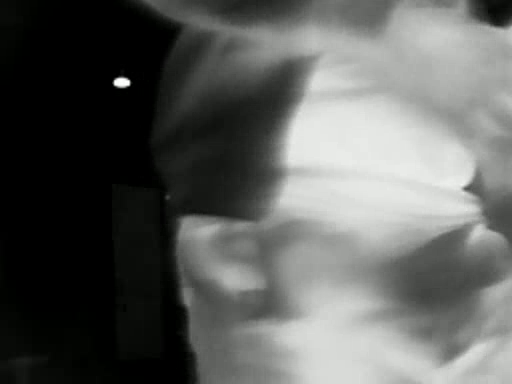chest: (180, 0, 475, 215)
